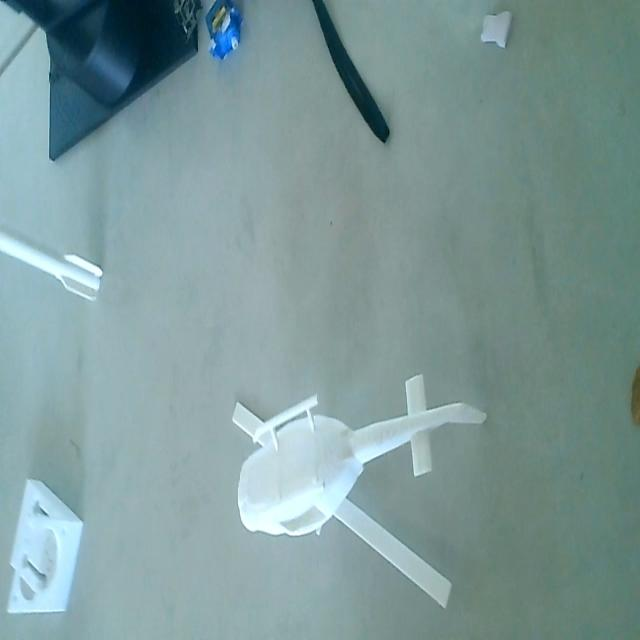Helicopter: (225, 383, 493, 617)
Rocket: (0, 227, 104, 303)
